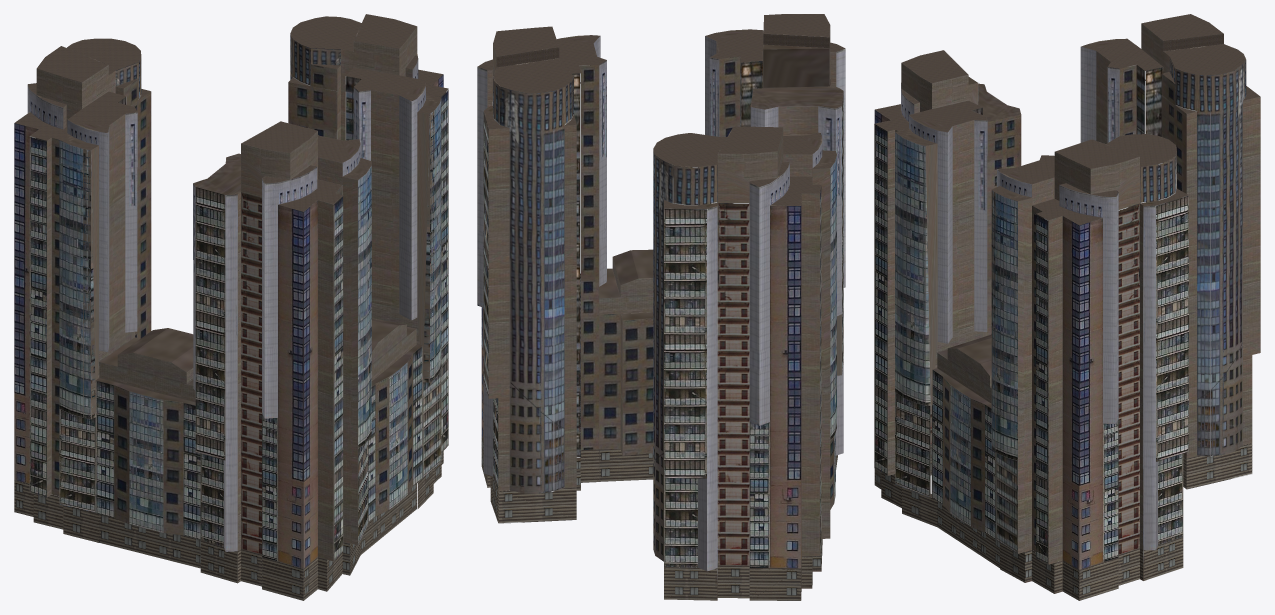
File: Zheka.FBX
The picture shows the model from 3 angles, left to right: view 1: azimuth 30°, elevation 25°; view 2: azimuth 150°, elevation 25°; view 3: azimuth 270°, elevation 25°; orthographic projection. The views are drawn at different scales.
Visible parts, largest first — view 1: Loft03, Loft04, Loft01, Box123, Box122; view 2: Loft04, Loft01, Loft03, Box122; view 3: Loft01, Loft03, Loft04, Box122.
Part boxes in pixels (box(x1,y1,x2,y2)): Loft03: box(193, 121, 371, 600); Loft04: box(14, 38, 151, 542); Loft01: box(288, 14, 448, 508); Box123: box(95, 328, 200, 568); Box122: box(360, 318, 422, 554); Loft04: box(653, 126, 836, 600); Loft01: box(477, 26, 606, 523); Loft03: box(705, 14, 845, 481); Box122: box(599, 249, 653, 481); Loft01: box(991, 134, 1188, 600); Loft03: box(874, 50, 1021, 526); Loft04: box(1080, 14, 1260, 489); Box122: box(931, 334, 999, 567).
Size of the model in its own units: 7347 by 8222 by 6811.
